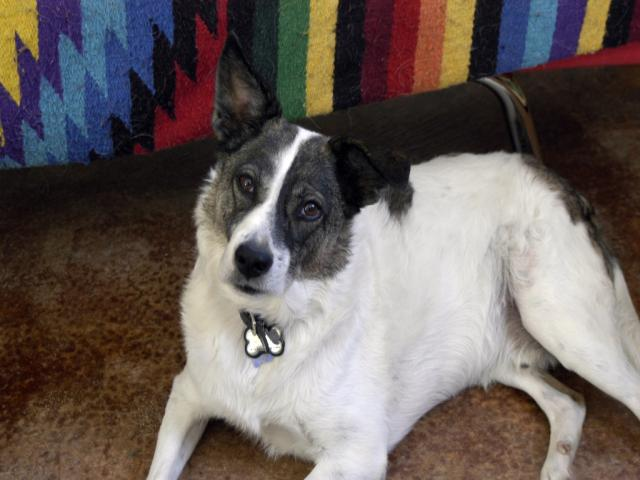Dog: (142, 30, 640, 480)
